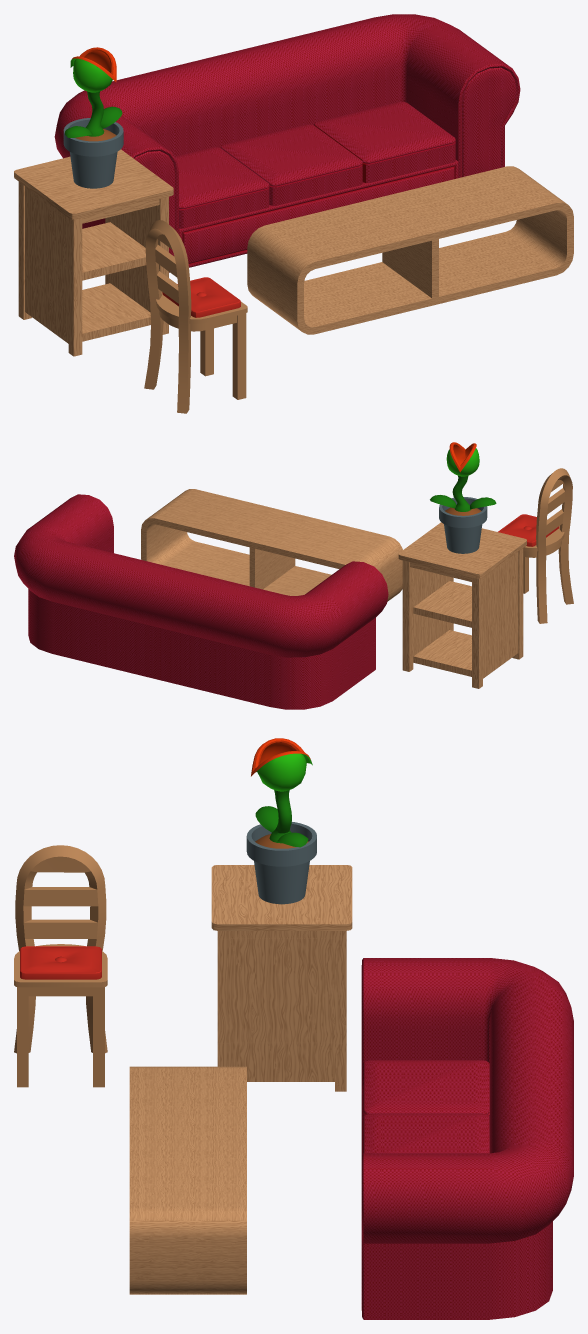
Rendered from Sufa with tablee.fbx.
The picture shows the model from 3 angles, top to bottom: view 1: azimuth 30°, elevation 25°; view 2: azimuth 150°, elevation 25°; view 3: azimuth 270°, elevation 25°; orthographic projection. The views are drawn at different scales.
Parts seen in each view (by area): view 1: Sufa, Table, Cabin, Chair, Flower stand, Flower; view 2: Sufa, Table, Cabin, Chair, Flower stand, Flower; view 3: Sufa, Table, Cabin, Chair, Flower stand, Flower.
Part boxes in pixels (left/top/right/bottom): Sufa: left=54, top=14, right=520, bottom=272; Table: left=247, top=166, right=573, bottom=334; Cabin: left=14, top=149, right=173, bottom=356; Chair: left=144, top=220, right=247, bottom=413; Flower stand: left=63, top=118, right=123, bottom=188; Flower: left=65, top=47, right=122, bottom=137; Sufa: left=14, top=494, right=388, bottom=709; Table: left=141, top=489, right=402, bottom=601; Cabin: left=398, top=522, right=526, bottom=688; Chair: left=498, top=468, right=573, bottom=623; Flower stand: left=439, top=497, right=487, bottom=553; Flower: left=430, top=442, right=496, bottom=511; Sufa: left=361, top=958, right=573, bottom=1319; Table: left=129, top=1066, right=246, bottom=1294; Cabin: left=211, top=865, right=352, bottom=1091; Chair: left=14, top=845, right=107, bottom=1087; Flower stand: left=246, top=822, right=316, bottom=904; Flower: left=251, top=738, right=312, bottom=847.
Size of the model in its own units: 2967 by 1502 by 2389.
